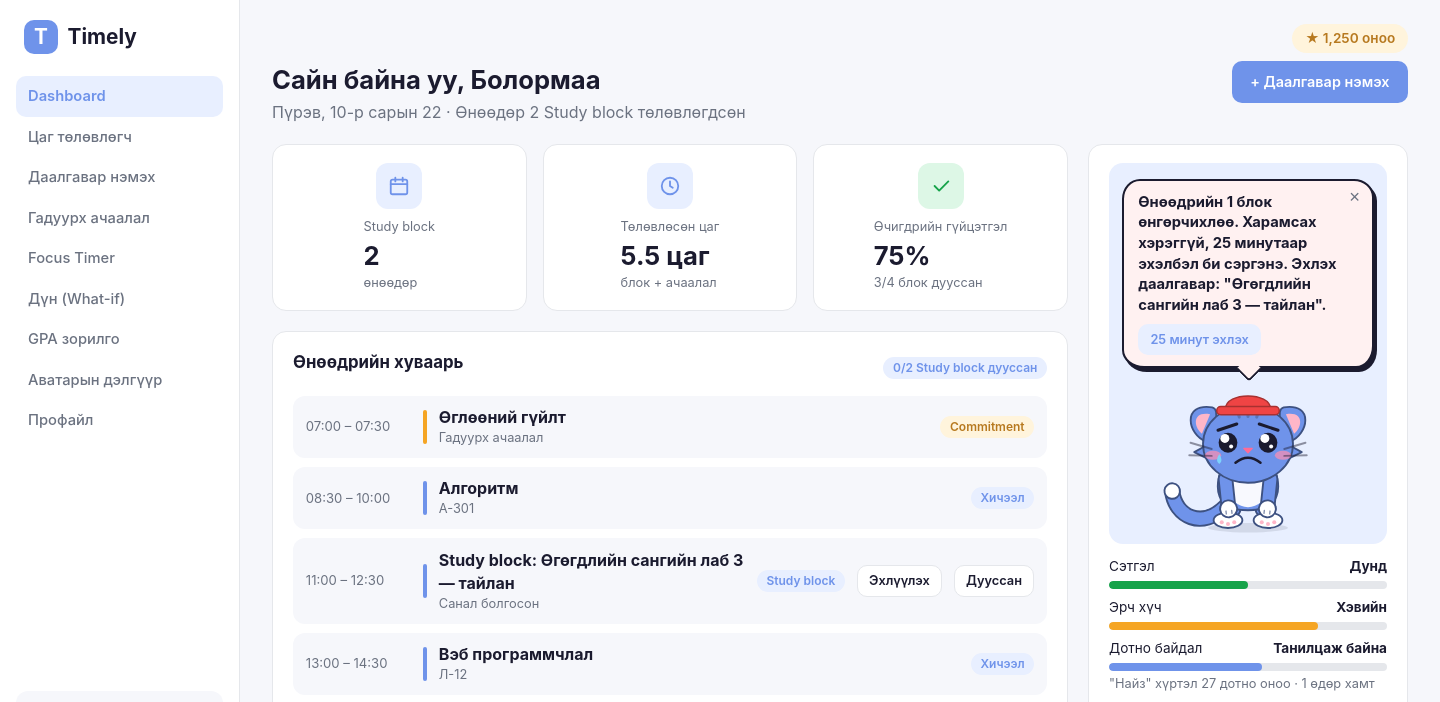
Scenario: CatCompanion — Dashboard › дээр нь дарвал өөр үг хэлнэ, × дарвал бөмбөлөг нуугдана
The width and height of the screenshot is (1440, 702).
Click the button with test id "companion-cat" at (1248, 459), box top-left (1173, 384), bottom-right (1323, 534)
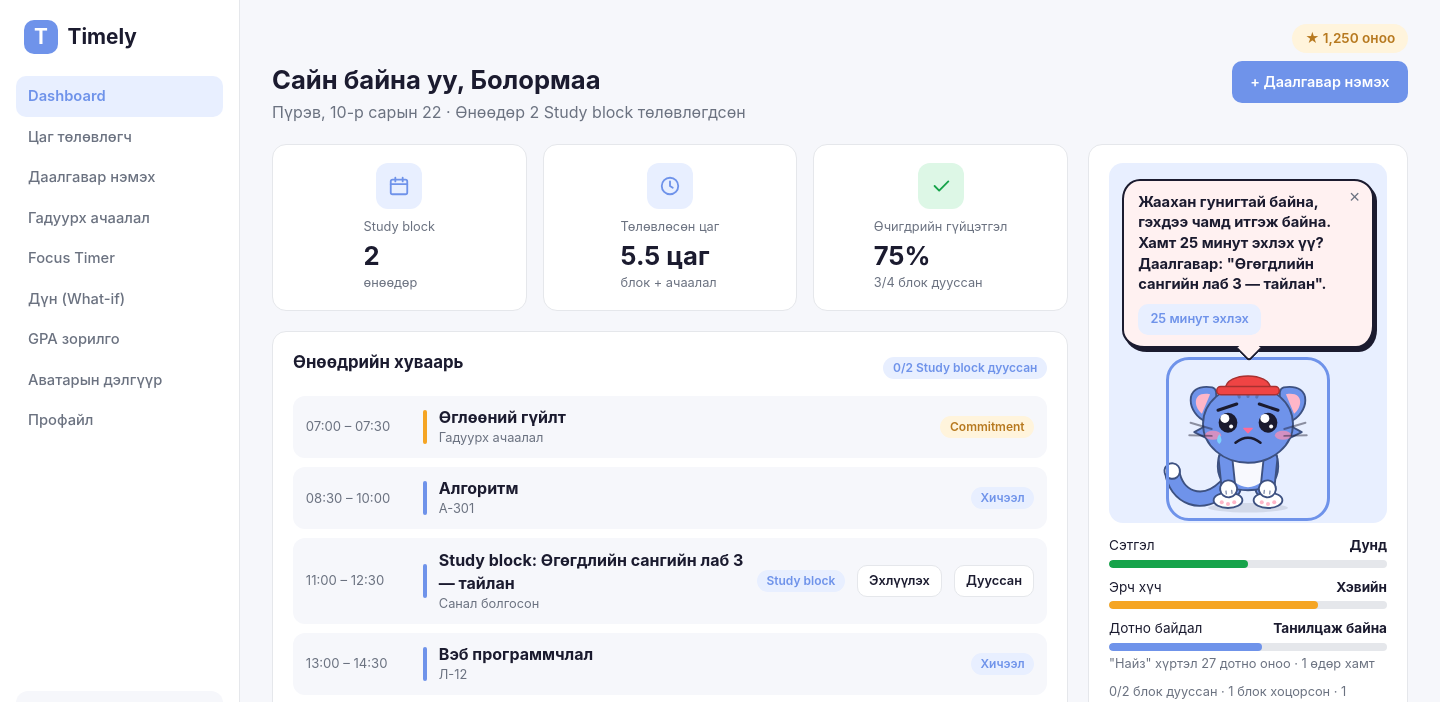
Click the button named "Мессежийг хаах" at (1355, 197), box top-left (1342, 185), bottom-right (1367, 210)
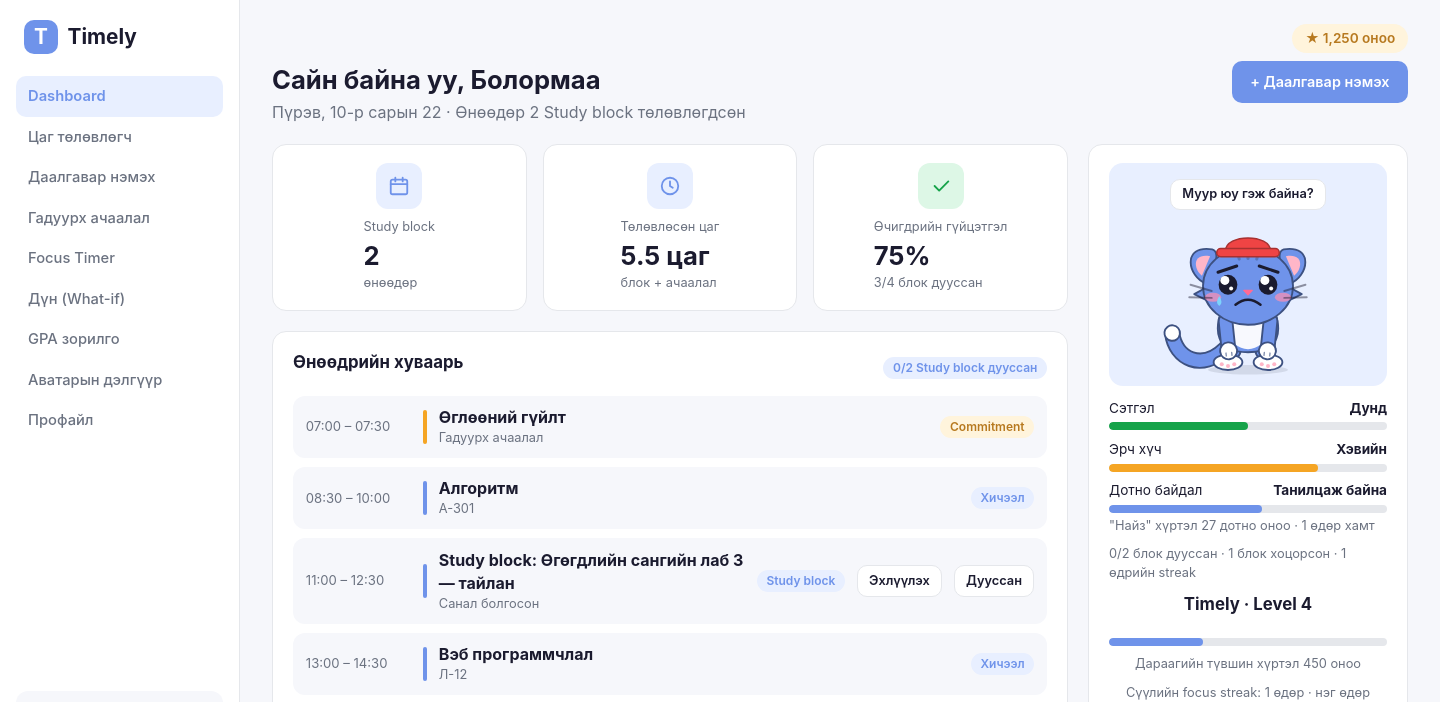
expect the text with test id "companion-line" is gone: met
Click the button "Муур юу гэж байна?" at (1248, 194), box top-left (1170, 179), bottom-right (1326, 210)
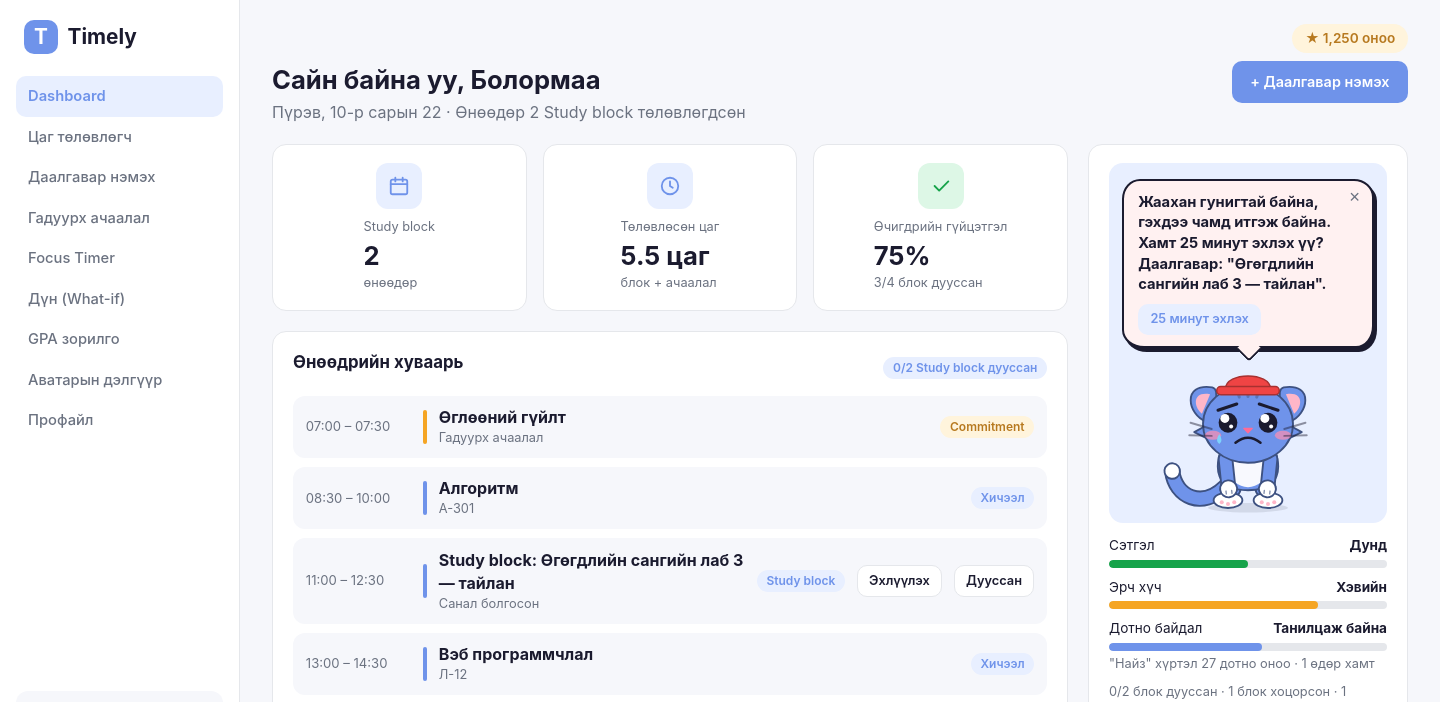
expect the text with test id "companion-line" is shown: met, box top-left (1138, 192), bottom-right (1340, 295)
